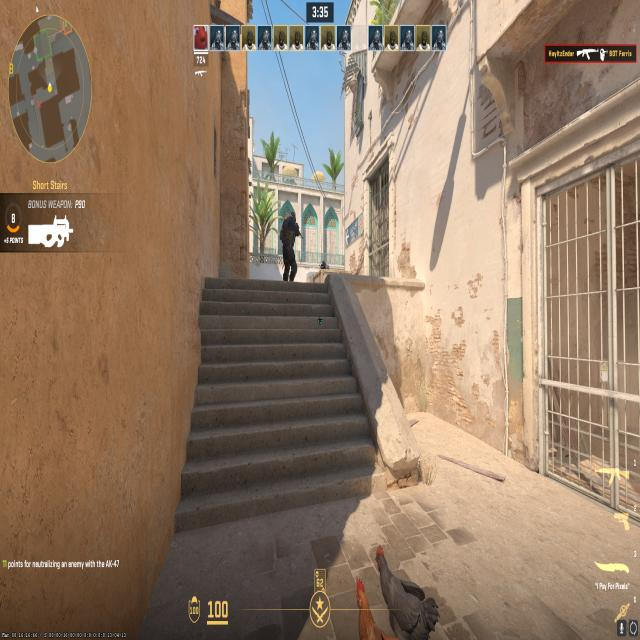ct: (277, 201, 303, 287), (319, 255, 328, 274)
